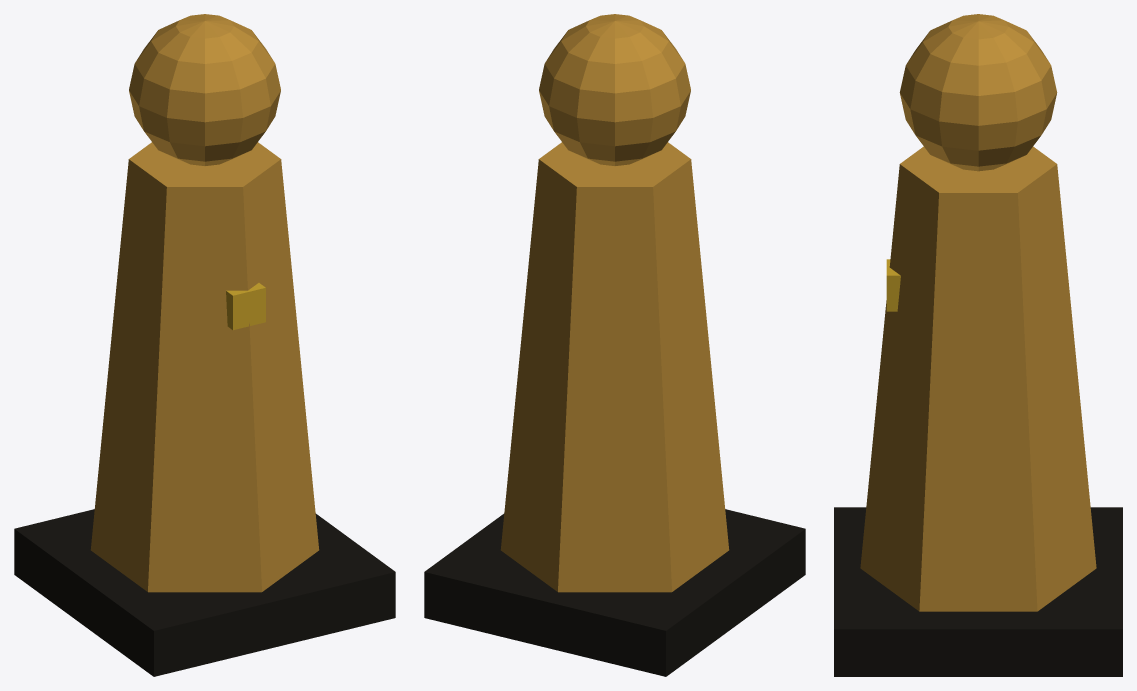
The model's file is AncientRelic.fbx.
3 renders of one model, left to right at view 1: azimuth 30°, elevation 25°; view 2: azimuth 150°, elevation 25°; view 3: azimuth 270°, elevation 25°, orthographic. The views are drawn at different scales.
Visible parts, largest first — view 1: AncientRelic; view 2: AncientRelic; view 3: AncientRelic.
Boxes of the visible parts, x1,y1,x2,y2 form: AncientRelic: (14,14,395,676); AncientRelic: (424,14,805,676); AncientRelic: (834,14,1122,676).
Bounding box in the file's own units: 22 × 50 × 22.
3 materials, 3 textured.
